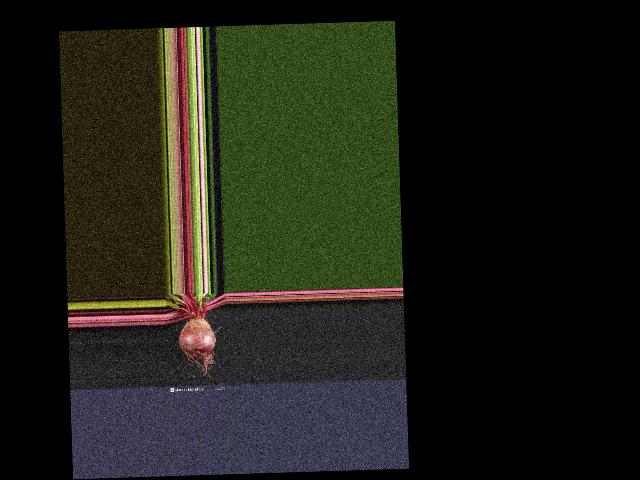beet: (164, 292, 217, 381)
